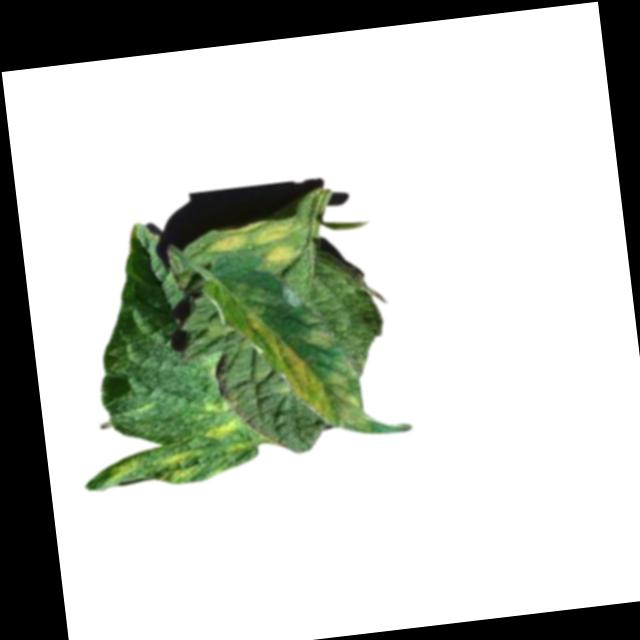Leaf_Mold: (267, 328, 374, 437), (204, 214, 303, 279), (154, 445, 204, 487), (200, 397, 247, 441)
